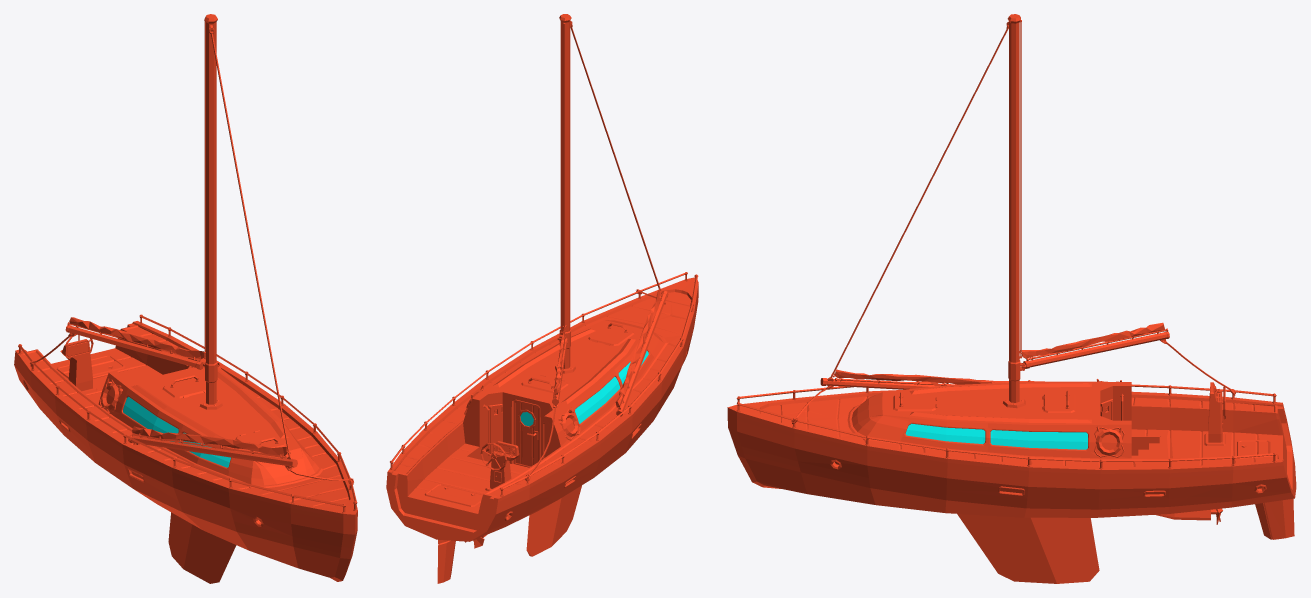
Rendered from SM_Sailboat_B.fbx.
3 renders of one model, left to right at view 1: azimuth 30°, elevation 25°; view 2: azimuth 150°, elevation 25°; view 3: azimuth 270°, elevation 25°, orthographic. The views are drawn at different scales.
Parts seen in each view (by area): view 1: SM_Sailboat_B_Base; view 2: SM_Sailboat_B_Base, SM_Sailboat_B_Door; view 3: SM_Sailboat_B_Base.
Part boxes in pixels (left/top/right/bottom): SM_Sailboat_B_Base: left=14, top=14, right=357, bottom=583; SM_Sailboat_B_Base: left=386, top=14, right=698, bottom=583; SM_Sailboat_B_Door: left=513, top=399, right=540, bottom=467; SM_Sailboat_B_Base: left=727, top=14, right=1296, bottom=583.
Size of the model in its own units: 4.59 by 15.19 by 13.87.
